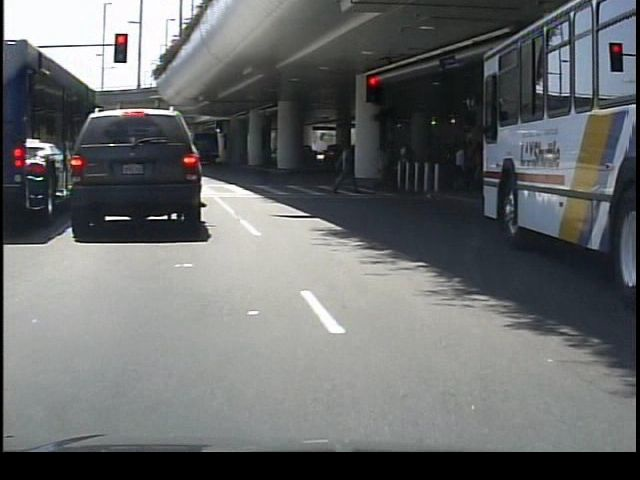person: (331, 135, 362, 198), (446, 136, 475, 195), (378, 137, 405, 192)
